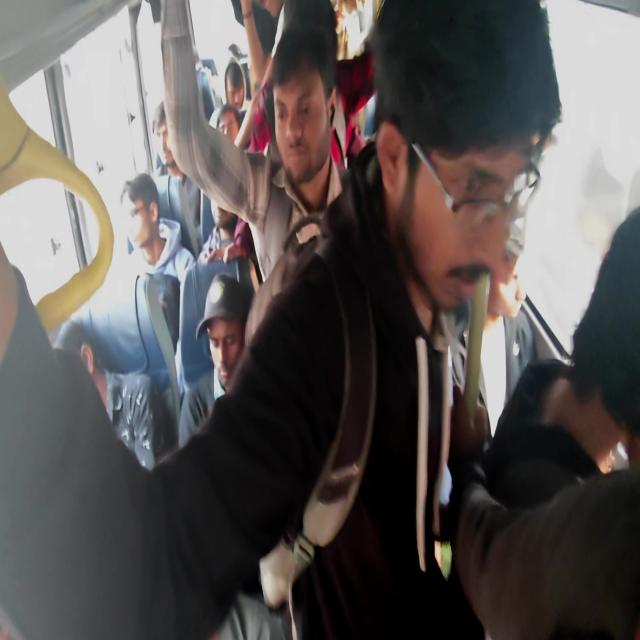person: (367, 0, 560, 309), (575, 211, 640, 427), (44, 326, 110, 440), (206, 284, 251, 432), (265, 79, 335, 166), (110, 149, 165, 243), (492, 235, 539, 332), (205, 191, 250, 262), (152, 103, 187, 175), (210, 108, 243, 162), (223, 62, 248, 96)
